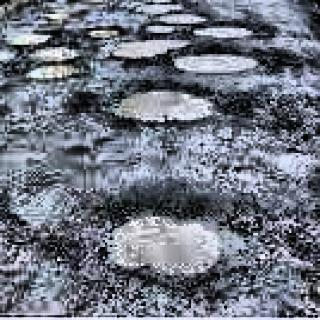pothole: (90, 195, 232, 284), (94, 74, 215, 128), (172, 49, 258, 77), (111, 36, 193, 60), (28, 42, 80, 64), (191, 23, 254, 40), (24, 64, 80, 82), (154, 11, 208, 27), (83, 22, 124, 40), (138, 22, 180, 38), (132, 1, 183, 14), (9, 32, 55, 46)
